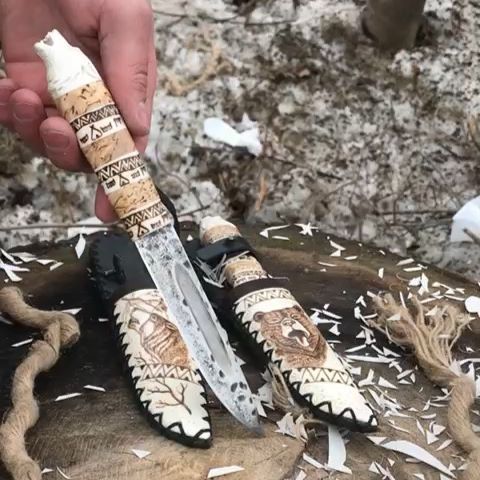knife: (35, 29, 258, 432)
